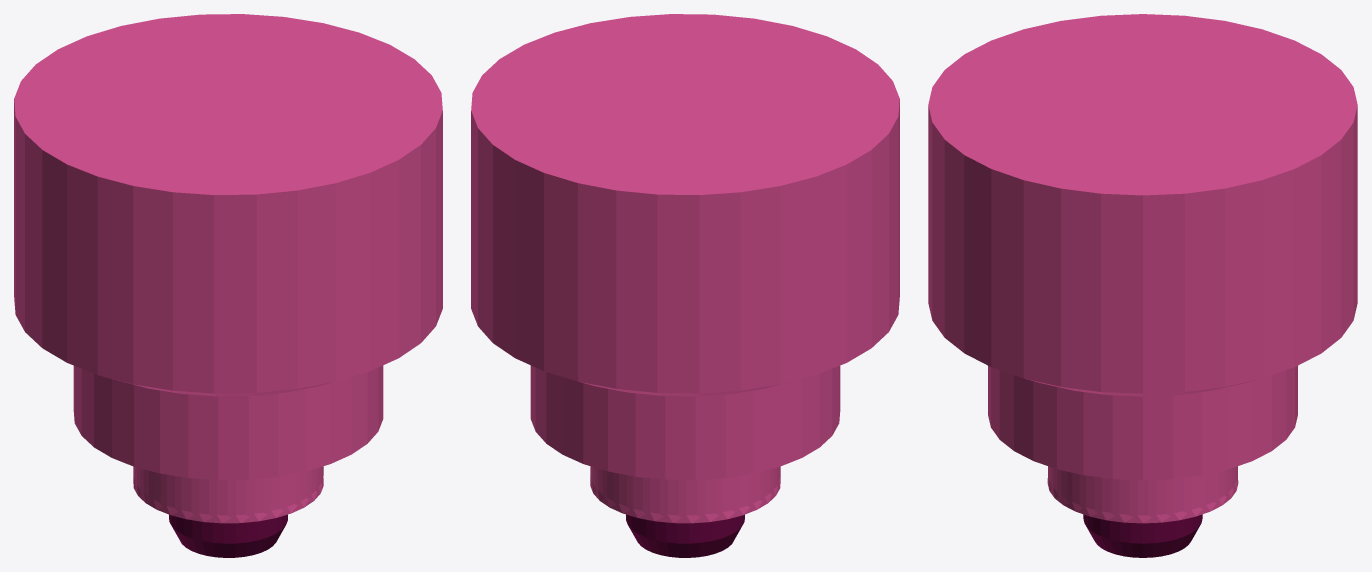
The model's file is pink_bottom.fbx.
3 renders of one model, left to right at view 1: azimuth 30°, elevation 25°; view 2: azimuth 150°, elevation 25°; view 3: azimuth 270°, elevation 25°, orthographic.
Visible parts, largest first — view 1: leg.top, leg.mid, leg.bottom, point; view 2: leg.top, leg.mid, leg.bottom, point; view 3: leg.top, leg.mid, leg.bottom, point.
Part boxes in pixels (x1=…): leg.top: x1=14, y1=14, x2=442, y2=396; leg.mid: x1=73, y1=365, x2=383, y2=479; leg.bottom: x1=133, y1=466, x2=323, y2=523; point: x1=169, y1=514, x2=287, y2=557; leg.top: x1=471, y1=14, x2=899, y2=396; leg.mid: x1=530, y1=365, x2=840, y2=479; leg.bottom: x1=590, y1=466, x2=780, y2=523; point: x1=626, y1=514, x2=744, y2=557; leg.top: x1=928, y1=14, x2=1357, y2=396; leg.mid: x1=988, y1=366, x2=1297, y2=480; leg.bottom: x1=1047, y1=466, x2=1238, y2=523; point: x1=1083, y1=514, x2=1202, y2=557.
Size of the model in its own units: 360 by 400 by 360.
